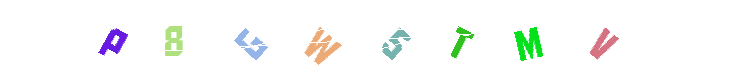5: (335, 0, 415, 80)
8: (168, 0, 248, 80)
G: (198, 0, 278, 80)
M: (467, 0, 547, 80)
P: (73, 0, 153, 80)
T: (355, 0, 435, 80)
V: (562, 0, 642, 80)
W: (297, 0, 377, 80)
